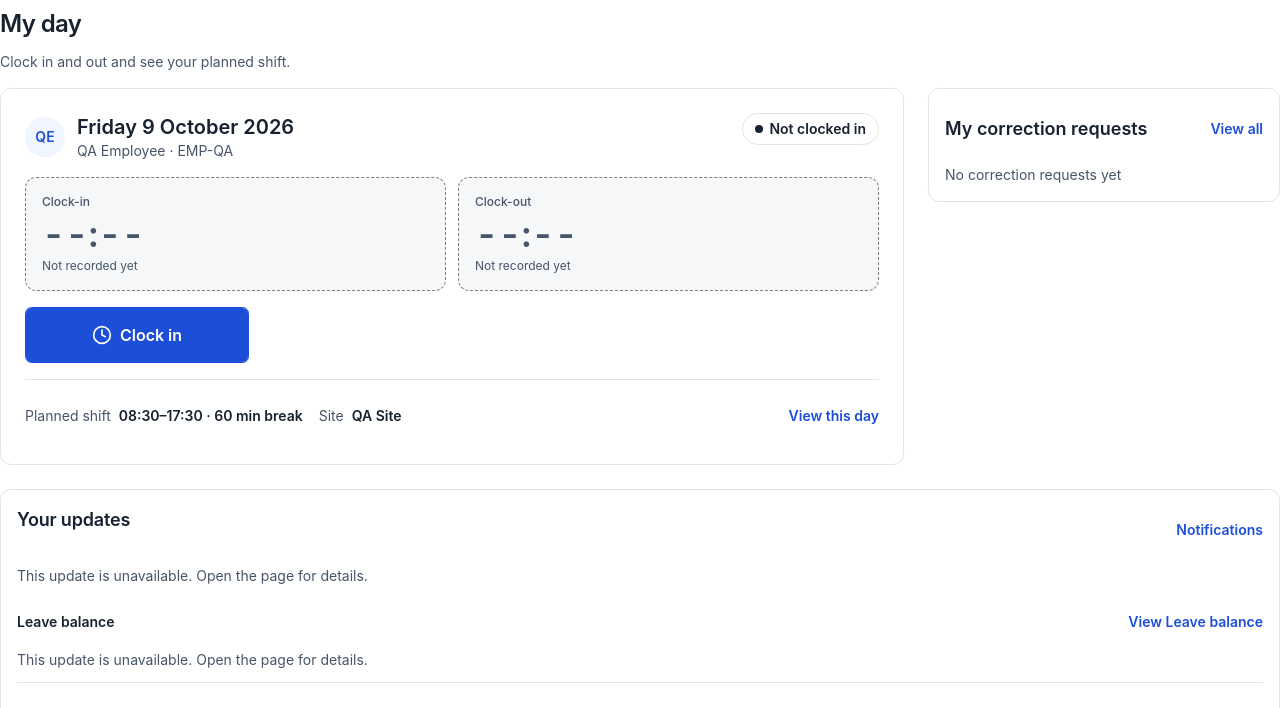
it: holds Search, AI and link navigation until a clock write receives its server answer
Click the button with test id "hr-clock-action".
click(137, 335)  # box [25,307,249,363]
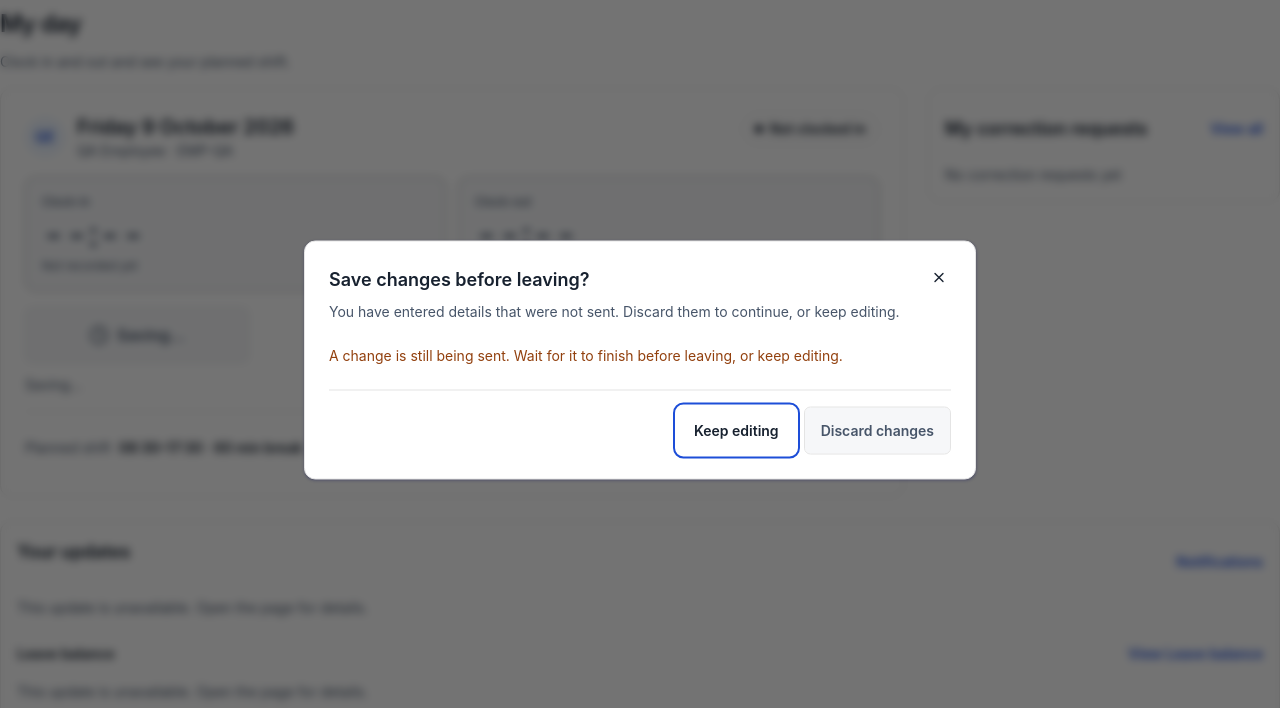
Now the message with test id "navigation-guard-pending" is shown, box [329,346,843,364]
Now the button "Discard changes" is disabled, box [804,406,951,454]
Click the button "Keep editing".
click(736, 430)  # box [677,406,796,454]
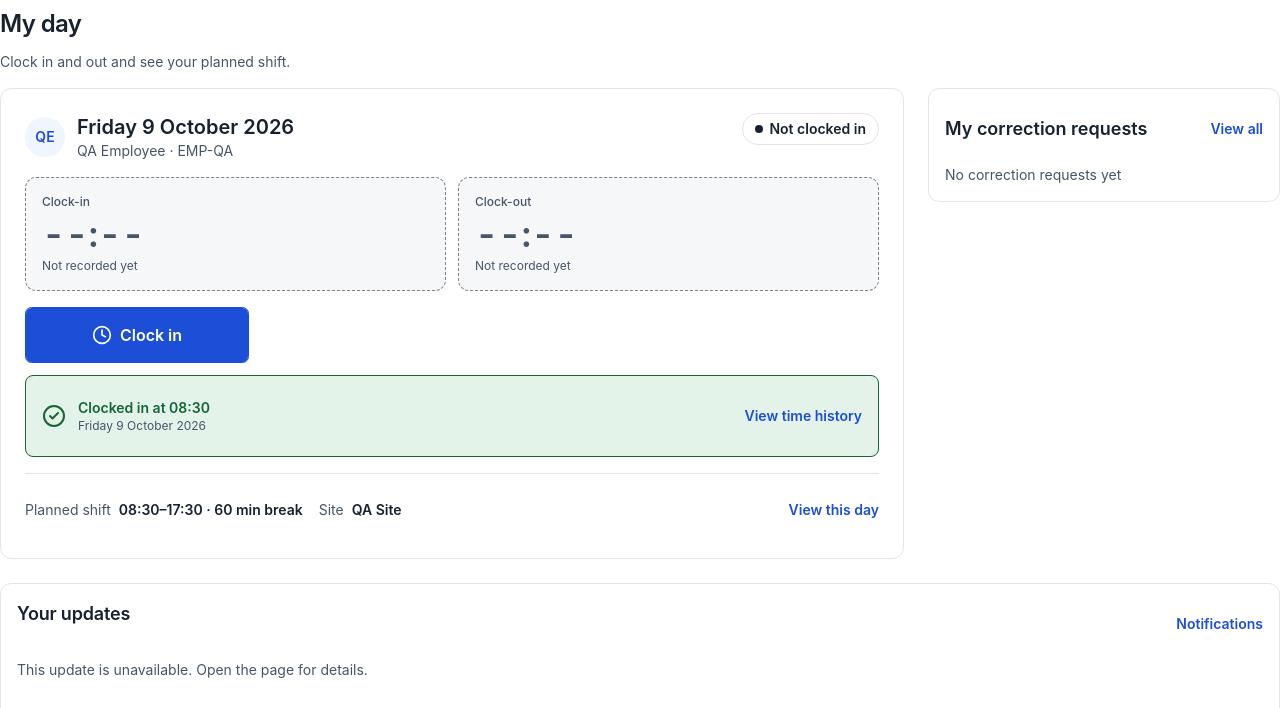
Now the message "Clocked in at 08:30 Friday 9 October 2026 View time history" is shown, box [25,375,879,457]
